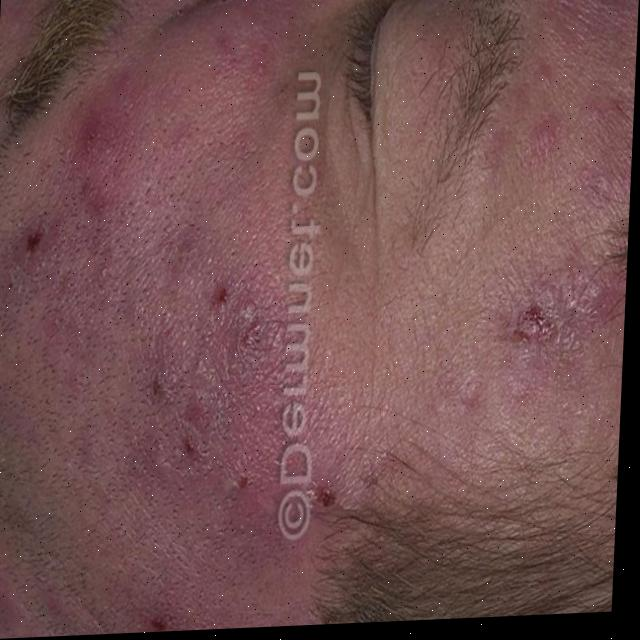Rosacea: (132, 271, 359, 536), (474, 28, 638, 364), (4, 115, 138, 272)
